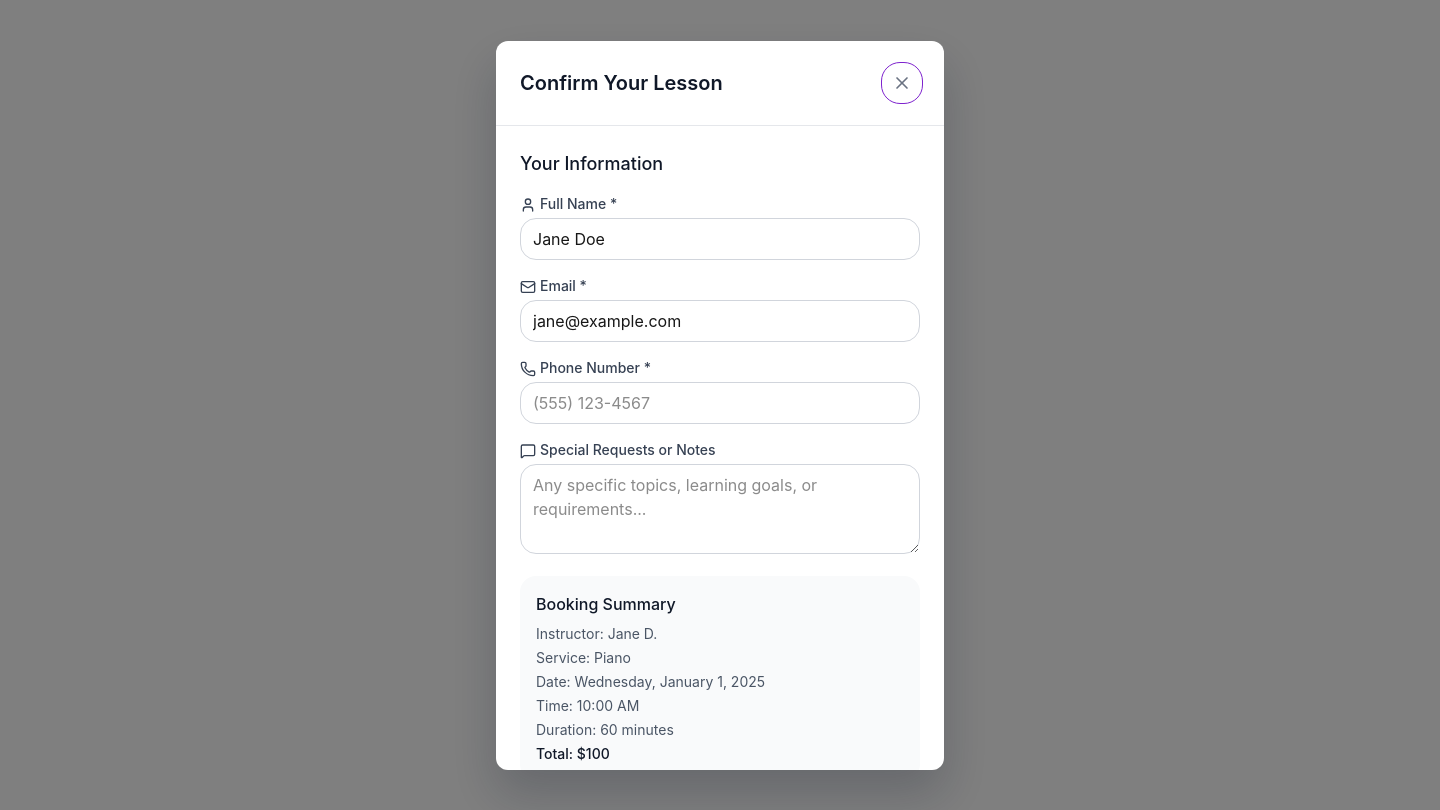
Test case: BookingModal › handleBookingSubmit defensive validation (lines 190-197) › keeps button disabled when phone is cleared after full fill
This screenshot has width=1440, height=810.
Note: Fill everything first to enable the button
In the field labelled "Phone Number *": (720, 402) [520,382,920,424], type "555-1111"
(page scrolled)
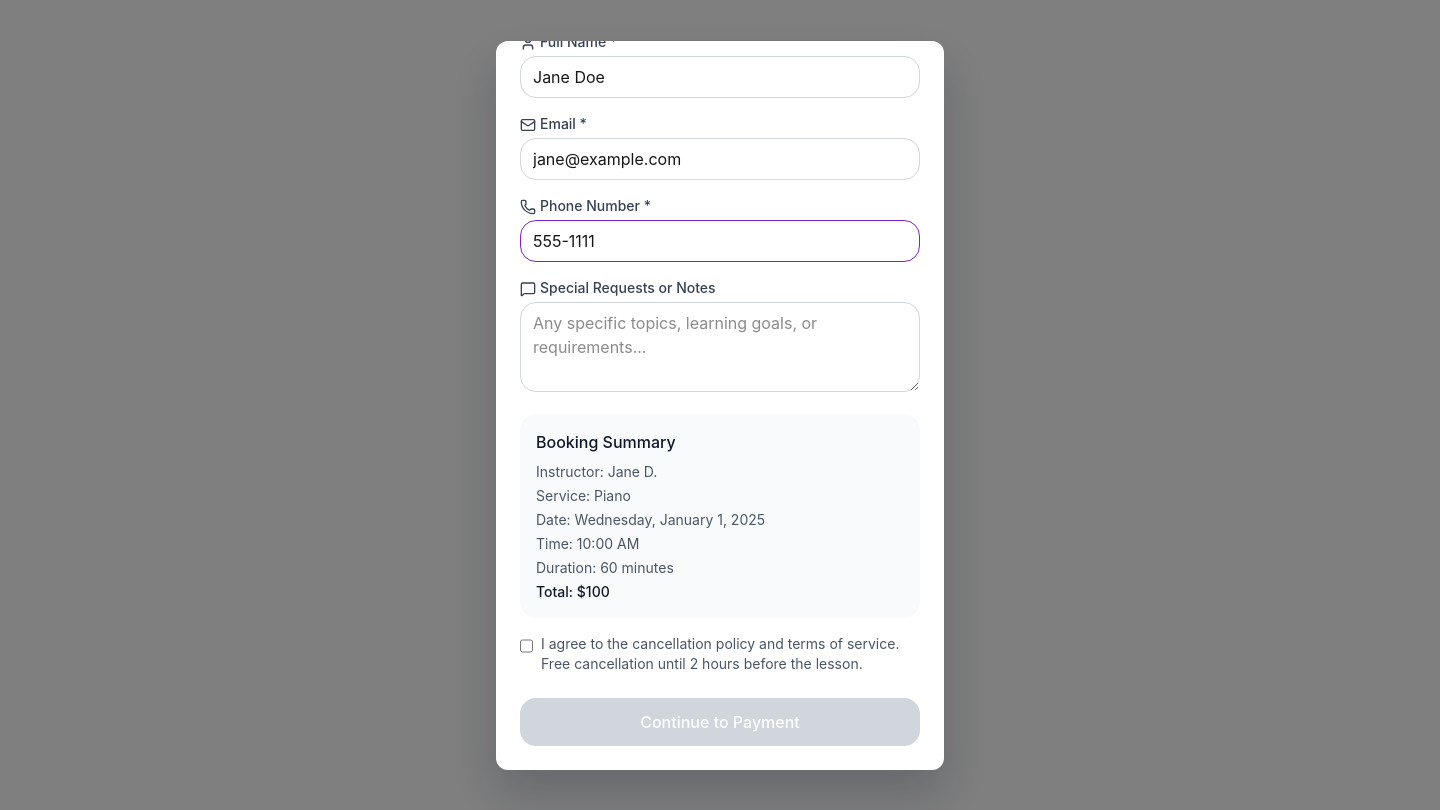
Click the checkbox: (526, 646) [520,638,533,654]
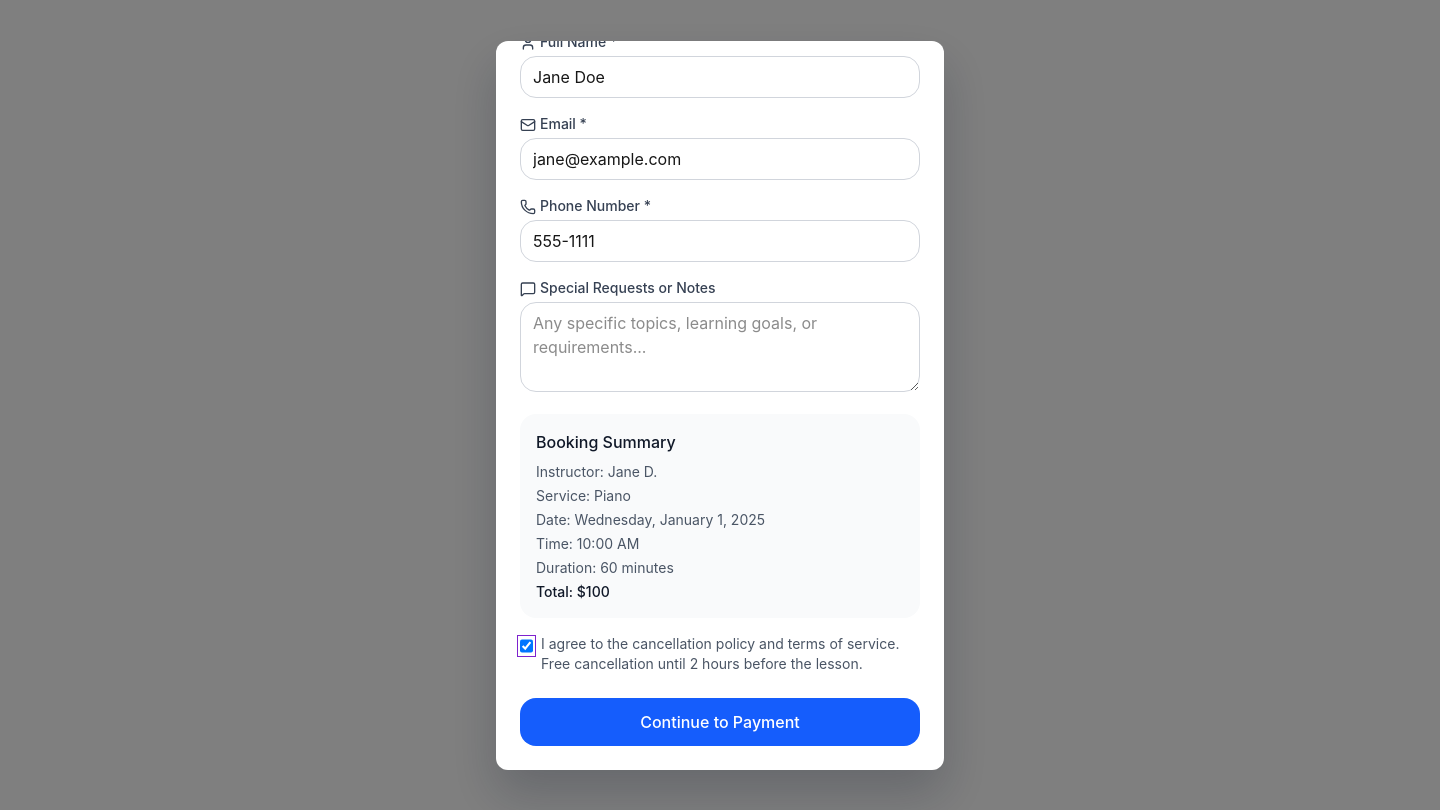
Expected: the button "Continue to Payment" is enabled, [520,698,920,746]
Note: Now clear the phone to make the form invalid
Clear the field labelled "Phone Number *": (720, 240) [520,220,920,262]
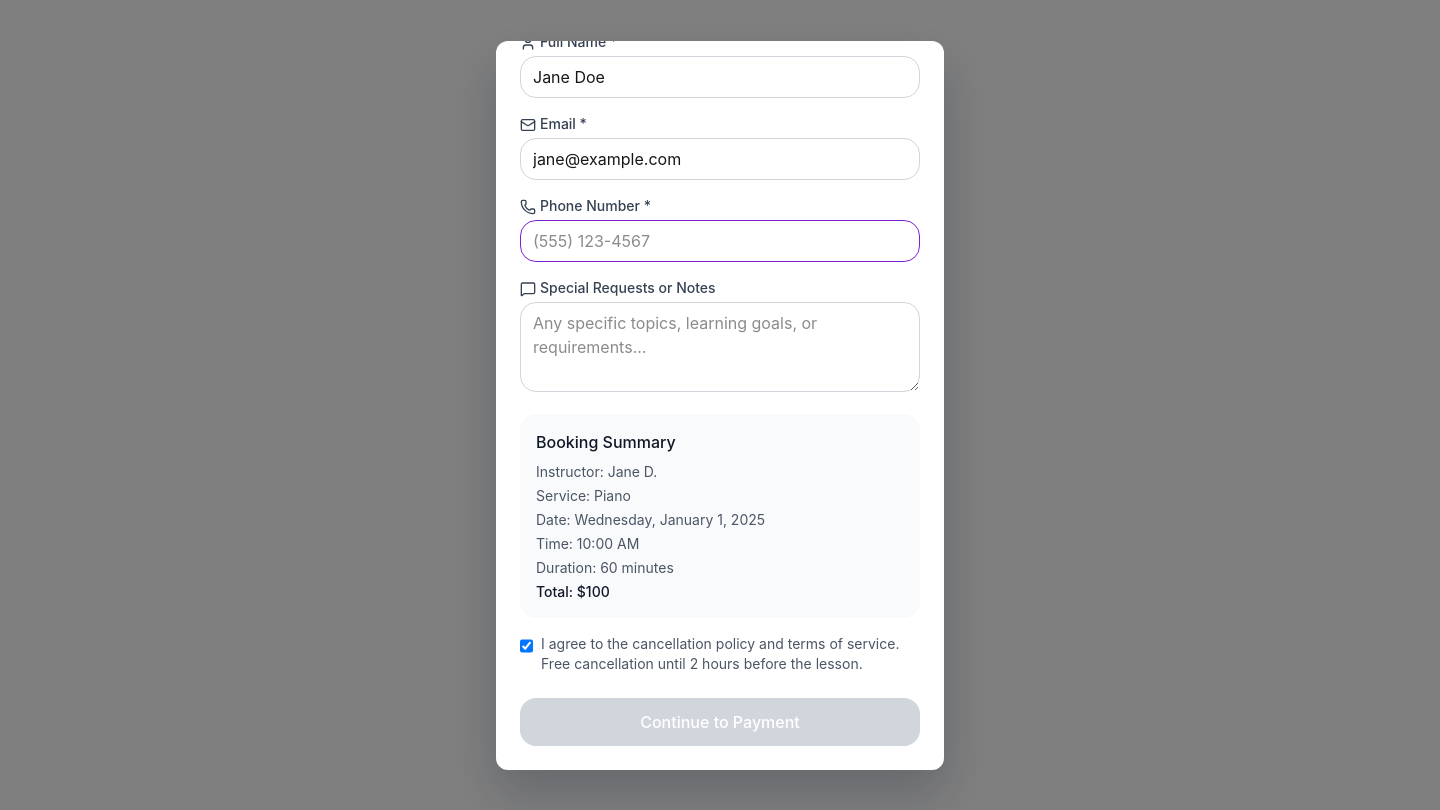
Expected: the button "Continue to Payment" is disabled, [520,698,920,746]
